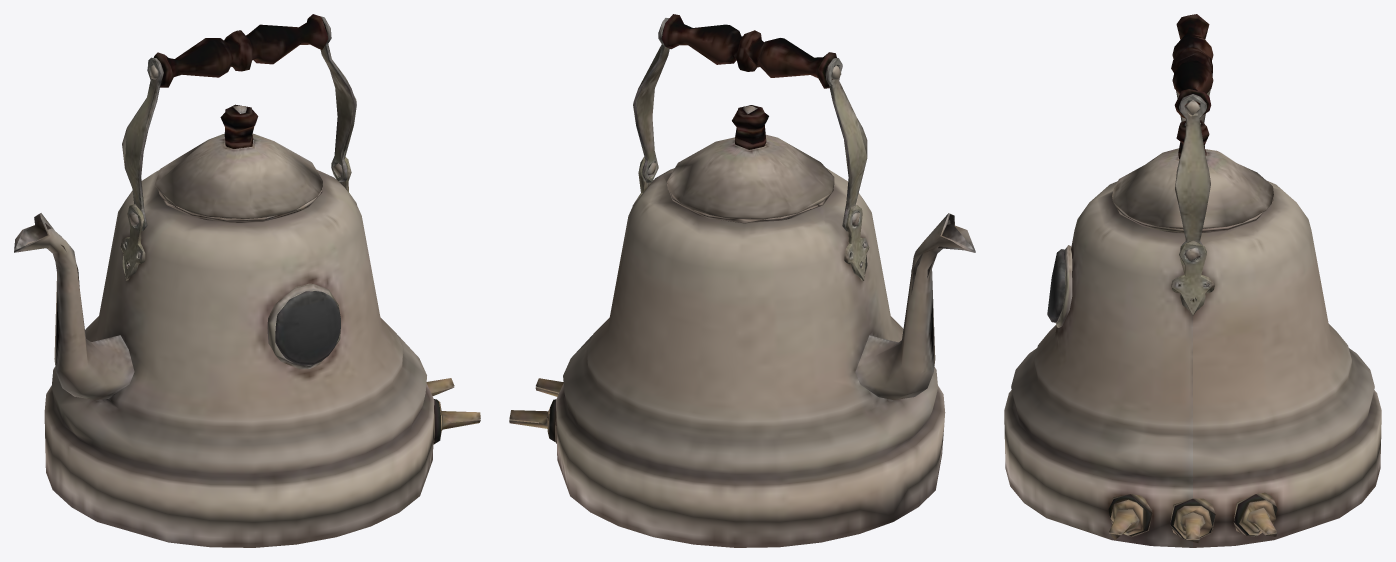
The model's file is vintage_electric_kettle.glb.
The picture shows the model from 3 angles, left to right: view 1: azimuth 30°, elevation 25°; view 2: azimuth 150°, elevation 25°; view 3: azimuth 270°, elevation 25°; orthographic projection. The views are drawn at different scales.
Visible parts, largest first — view 1: vintage_electric_kettle; view 2: vintage_electric_kettle; view 3: vintage_electric_kettle.
Part boxes in pixels (bbox=[...]): vintage_electric_kettle: bbox=[14, 14, 480, 547]; vintage_electric_kettle: bbox=[509, 14, 975, 547]; vintage_electric_kettle: bbox=[1004, 14, 1381, 547].
Size of the model in its own units: 0.3201 by 0.3044 by 0.2478.
Materials: 2 (2 with a texture image).
